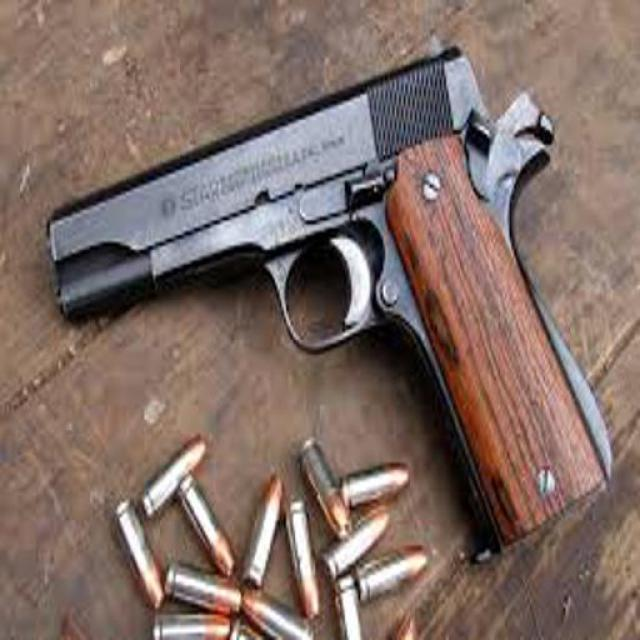pistol: (31, 21, 621, 527)
